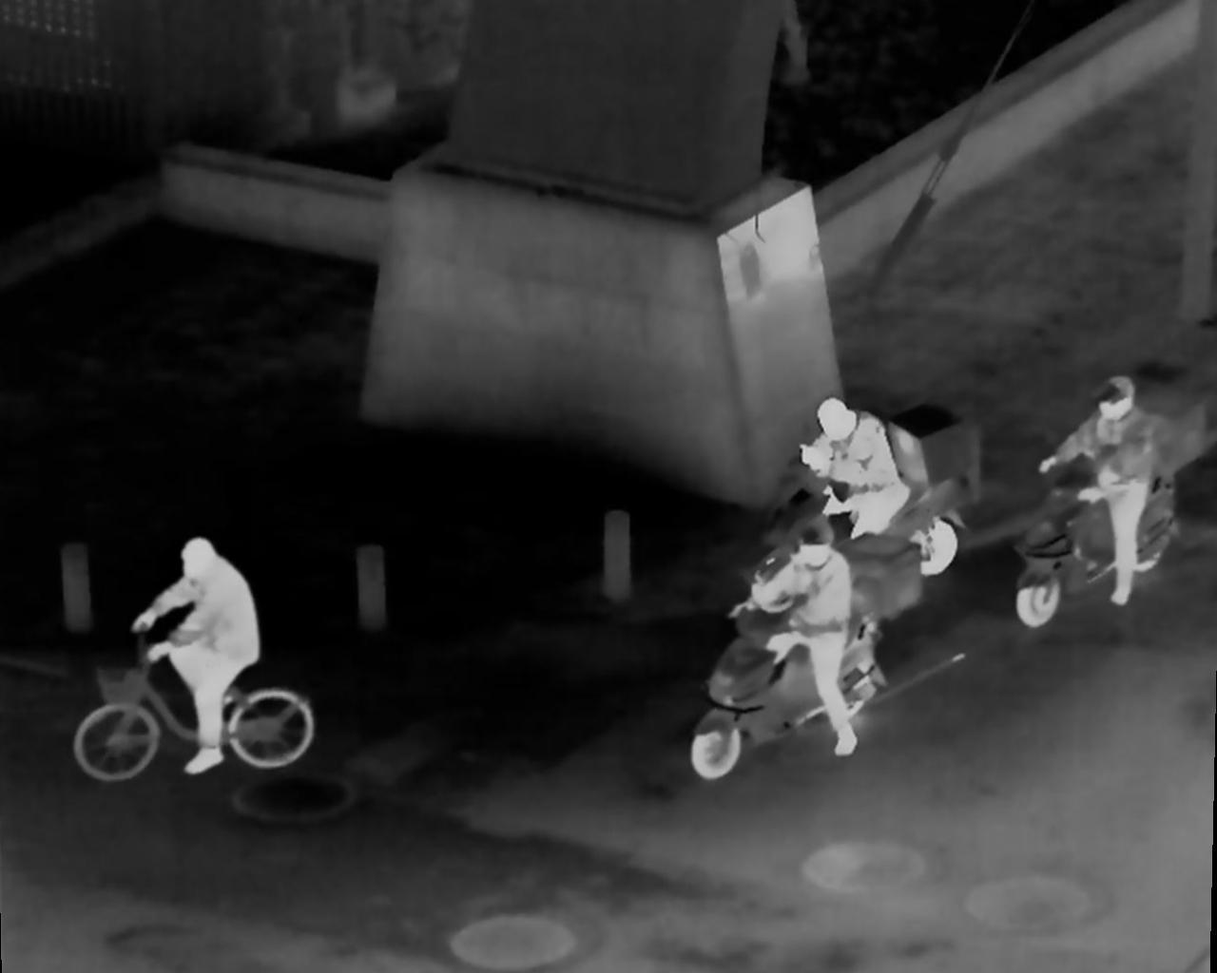person: (131, 533, 264, 775), (1044, 376, 1169, 607), (749, 526, 864, 761), (805, 393, 935, 594)
